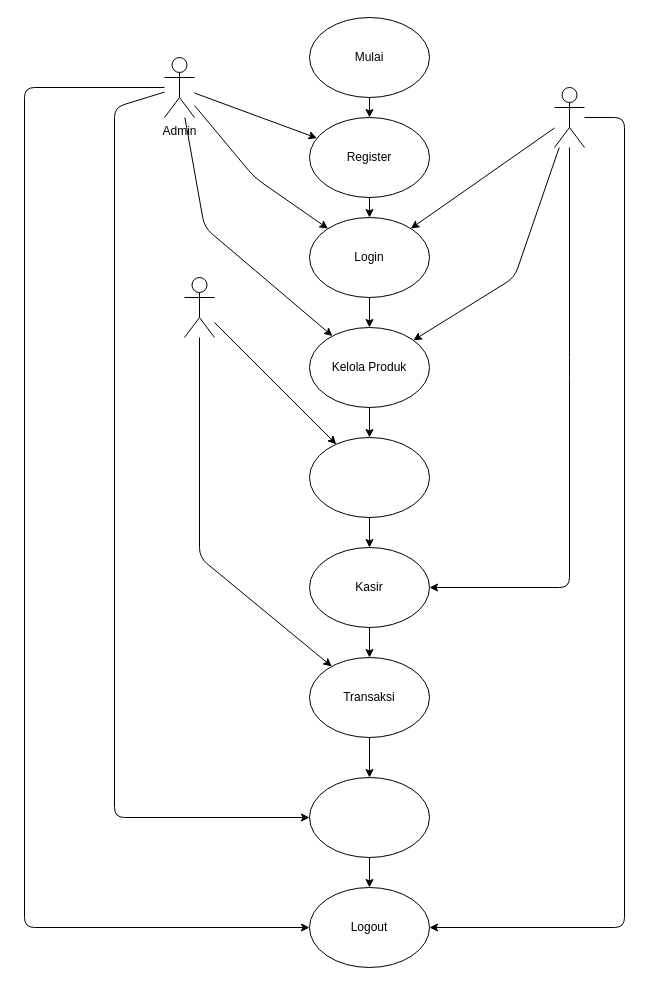
This 650x985 diagram has some shape labels left out. The shapes that lost their labels are listed below. From the top down, each one's centre as x and y in pixels, then its label:
At (569,117): "Petugas".
At (199,307): "Pembeli".
At (369,477): "Pembelian".
At (369,817): "Laporan".
